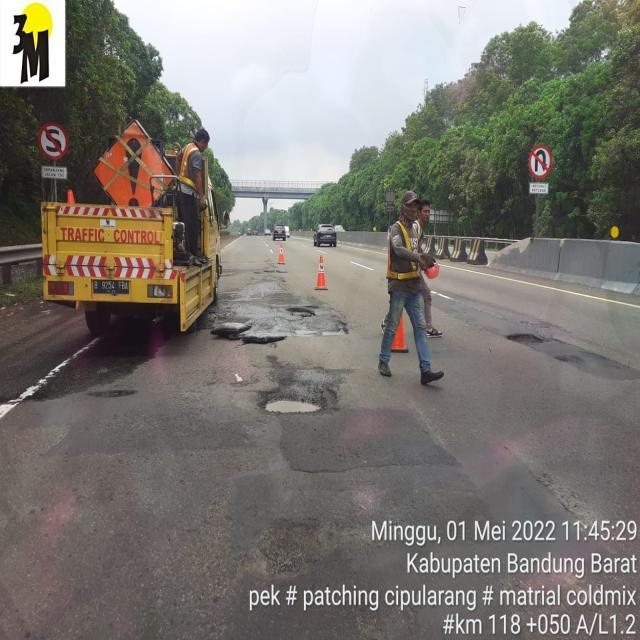Buraco: (255, 380, 342, 418), (504, 332, 569, 348), (83, 388, 140, 400), (318, 319, 352, 338), (285, 306, 318, 318)
